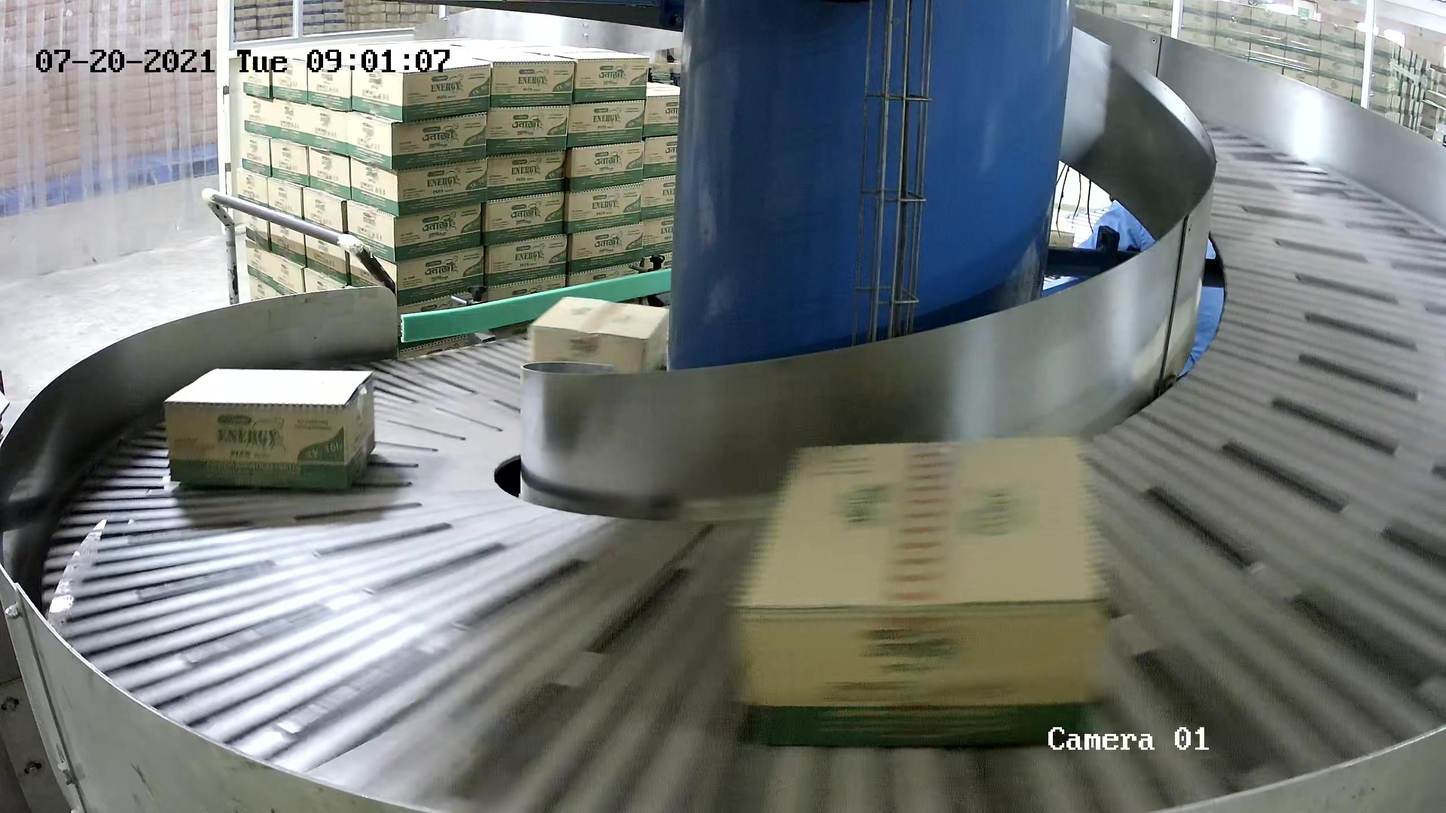Box: (725, 428, 1119, 754), (163, 366, 378, 492), (529, 294, 671, 384)
